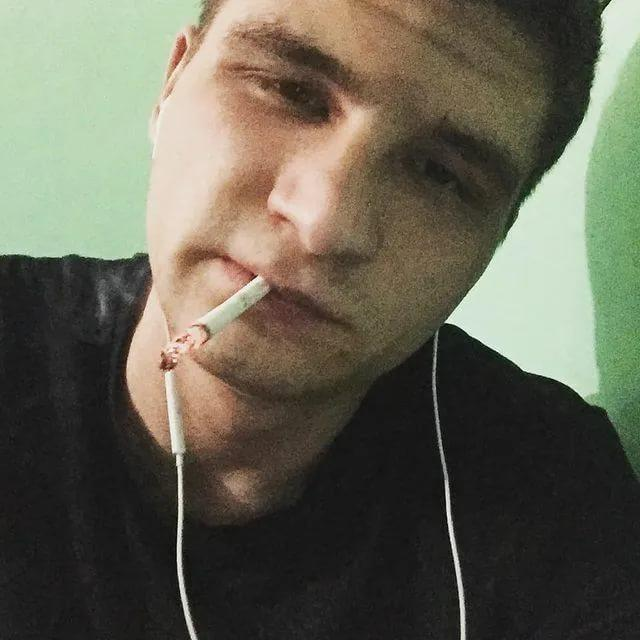smoke: (159, 278, 281, 378)
